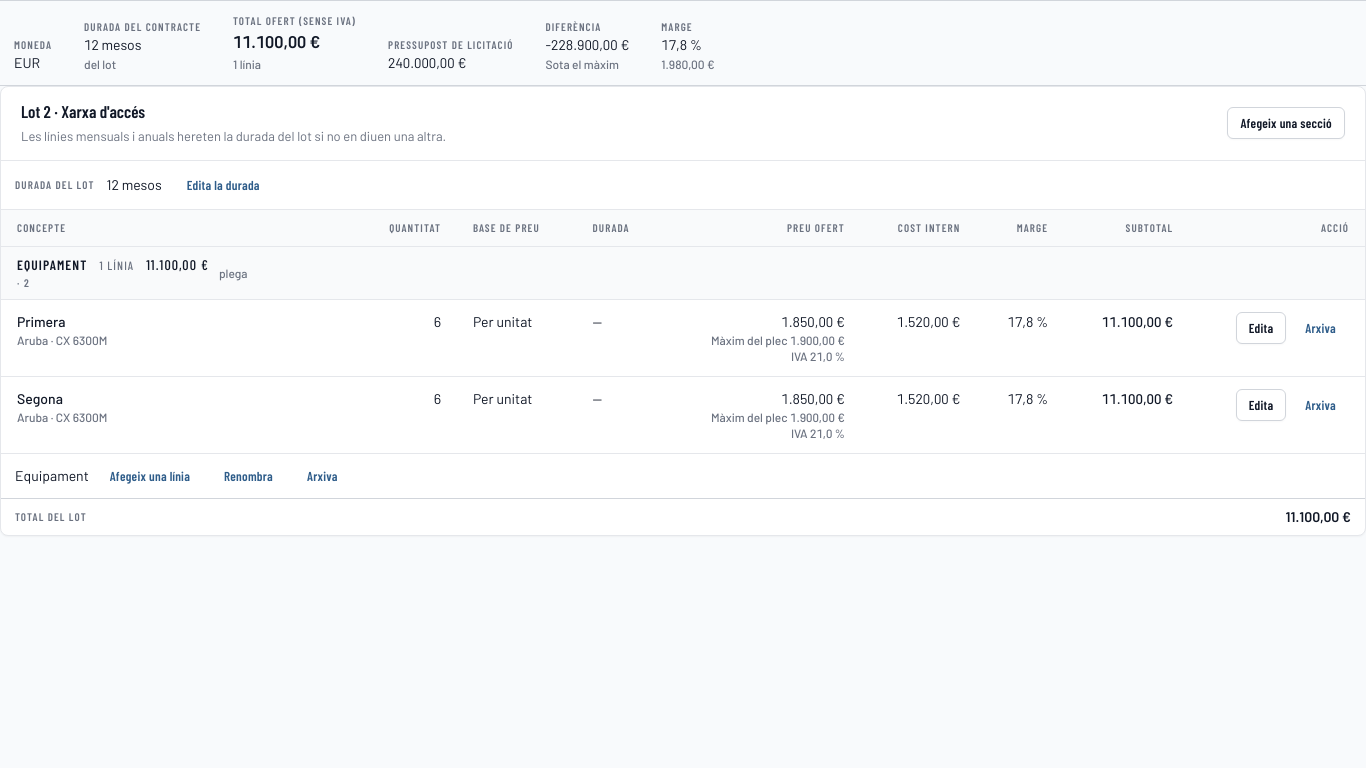
Test: Oferta econòmica · edició › s'obre l'editor a la fila, i només un alhora
Click the button "Edita" in the row of "Primera" at (1261, 328), box x1=1236 y1=312 x2=1286 y2=344
(page scrolled)
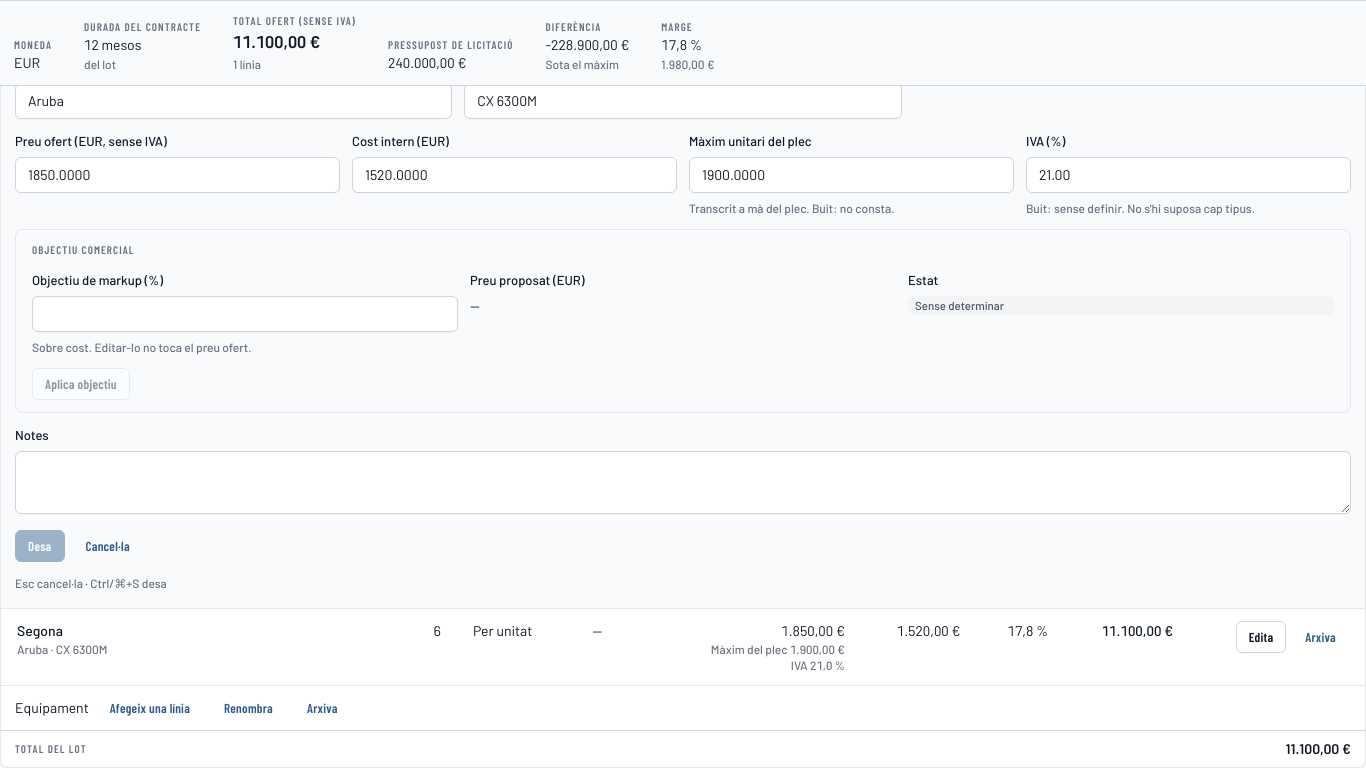
Expected: the field labelled "Concepte*" is shown, x1=15 y1=9 x2=677 y2=45
Click the button "Edita" at (1261, 637), box x1=1236 y1=621 x2=1286 y2=653
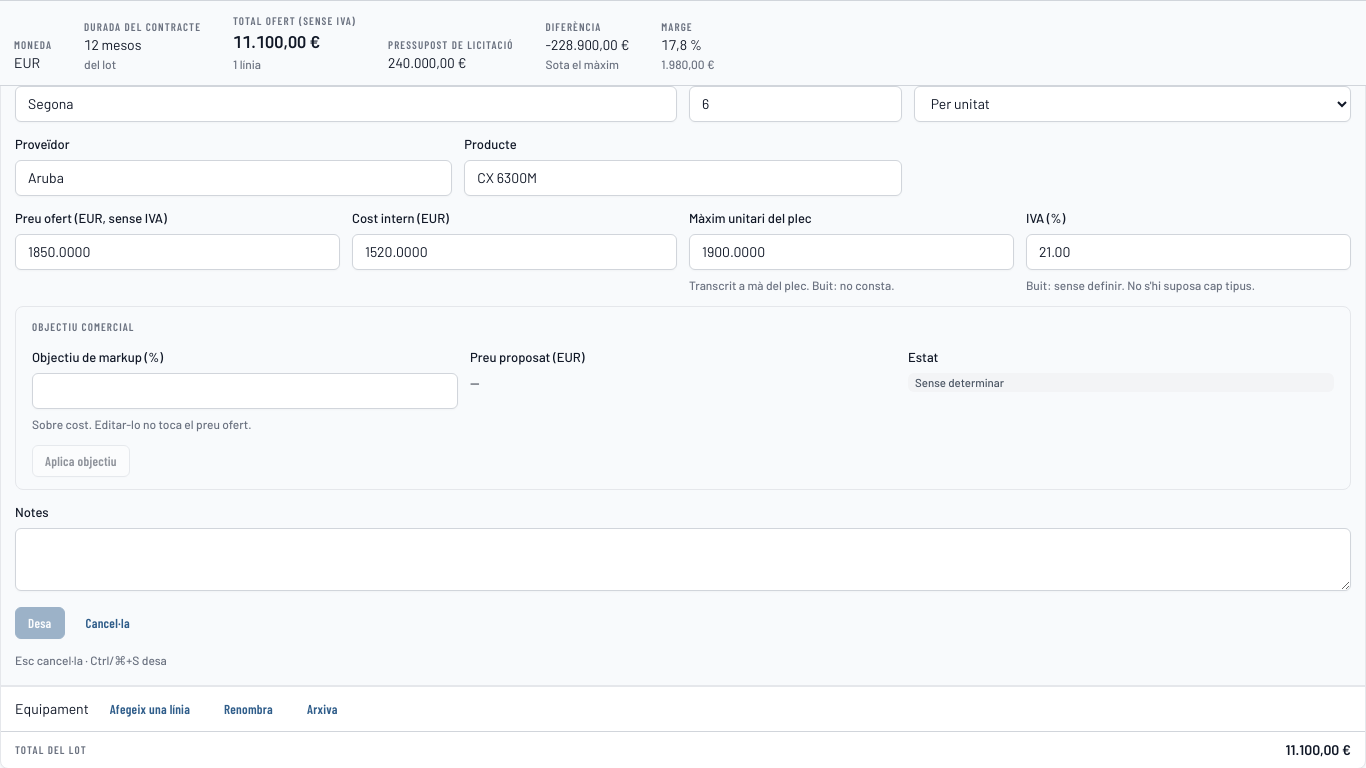
Now the number of fields labelled "Concepte*" is 1, box x1=15 y1=86 x2=677 y2=122
Now the field labelled "Concepte*" holds "Segona", box x1=15 y1=86 x2=677 y2=122
